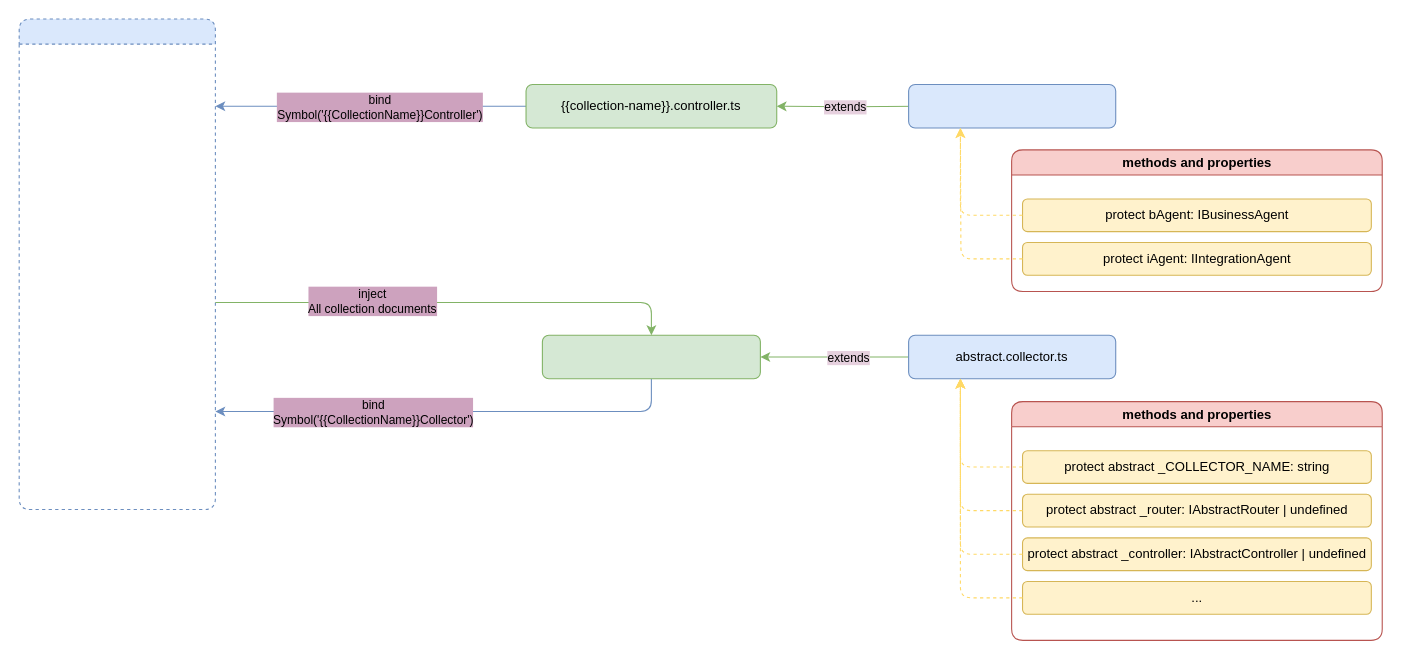
Some shapes in this 1402 by 659 pixel diagram are drawn without their labels. Here are the shapes that lost their labels. From the top down, the centre of each, then its label:
the point at 1012,105: abstract.controller.ts
the point at 116,264: ioc.{{application-name}}.ts
the point at 650,356: {{collection-name}}.collector.ts
